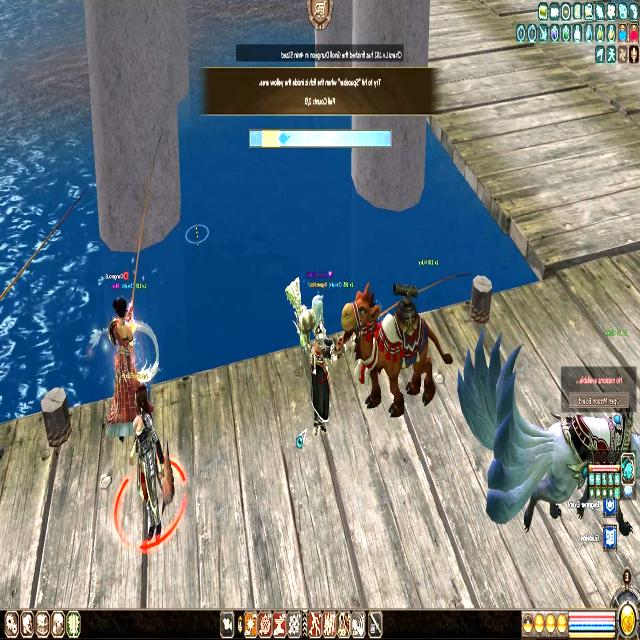fishes: (278, 131, 290, 146)
